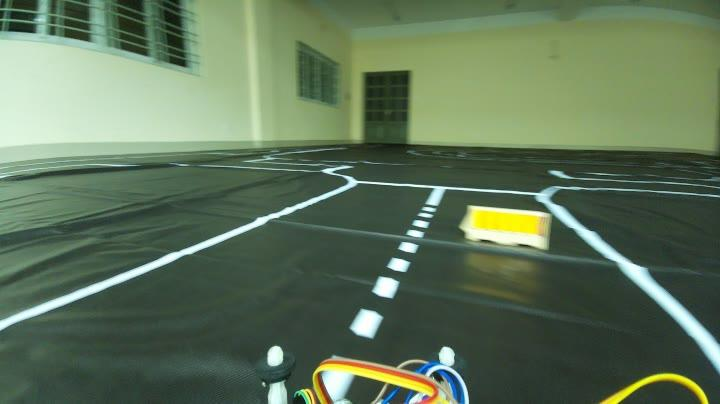roadblock: (460, 202, 556, 260)
